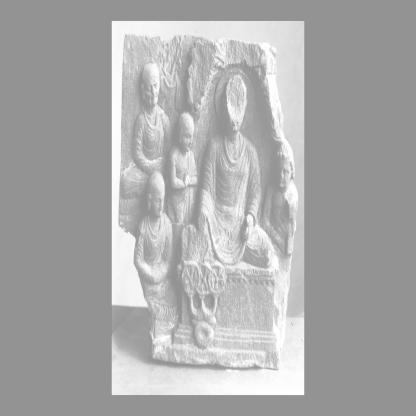buddha-sitting: (172, 70, 280, 368)
